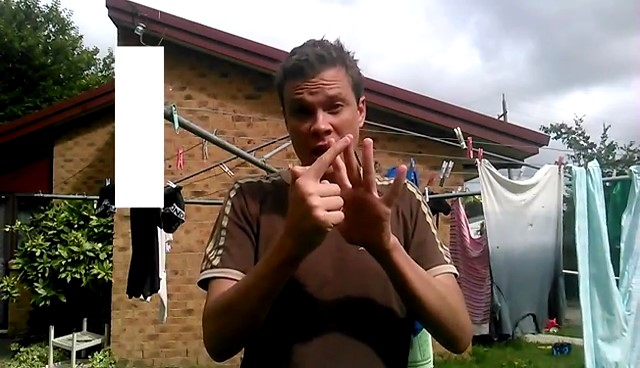I: (272, 133, 418, 263)
